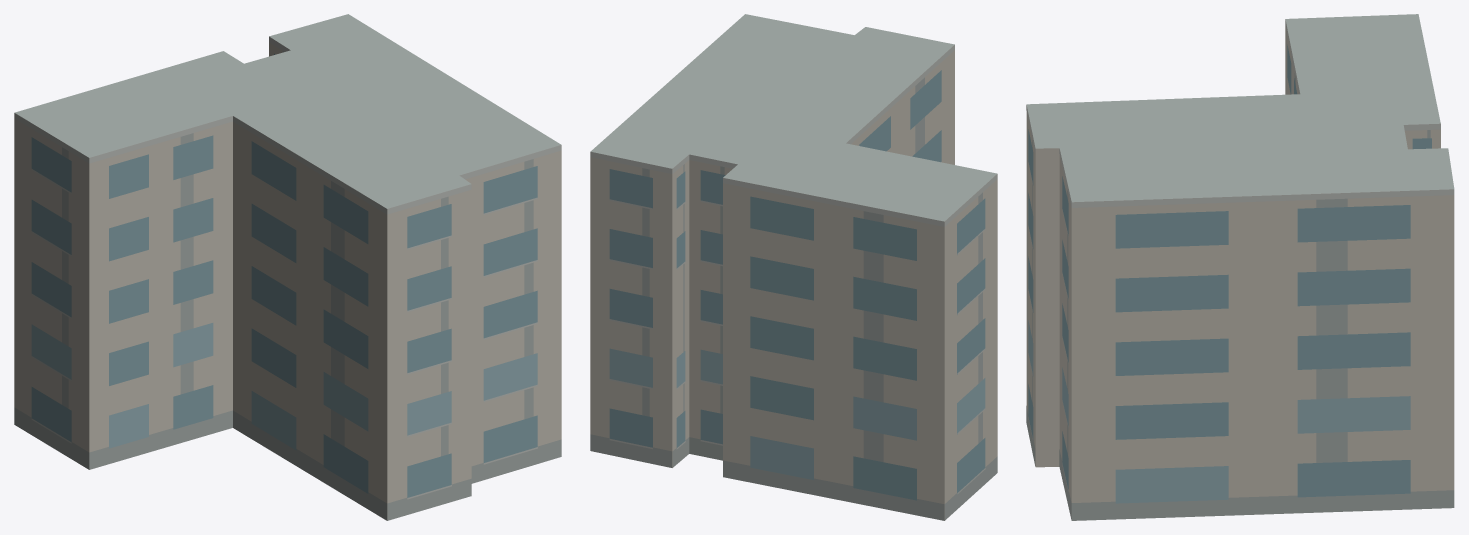
The model's file is survey-upis-32973766.glb.
The picture shows the model from 3 angles, left to right: view 1: azimuth 30°, elevation 25°; view 2: azimuth 150°, elevation 25°; view 3: azimuth 270°, elevation 25°; orthographic projection. The views are drawn at different scales.
Visible parts, largest first — view 1: survey-upis-32973766.tmp; view 2: survey-upis-32973766.tmp; view 3: survey-upis-32973766.tmp.
Boxes of the visible parts, x1=… form: survey-upis-32973766.tmp: x1=14, y1=14, x2=561, y2=520; survey-upis-32973766.tmp: x1=590, y1=14, x2=997, y2=520; survey-upis-32973766.tmp: x1=1026, y1=14, x2=1454, y2=520.
Size of the model in its own units: 16.92 by 13.35 by 16.26.
